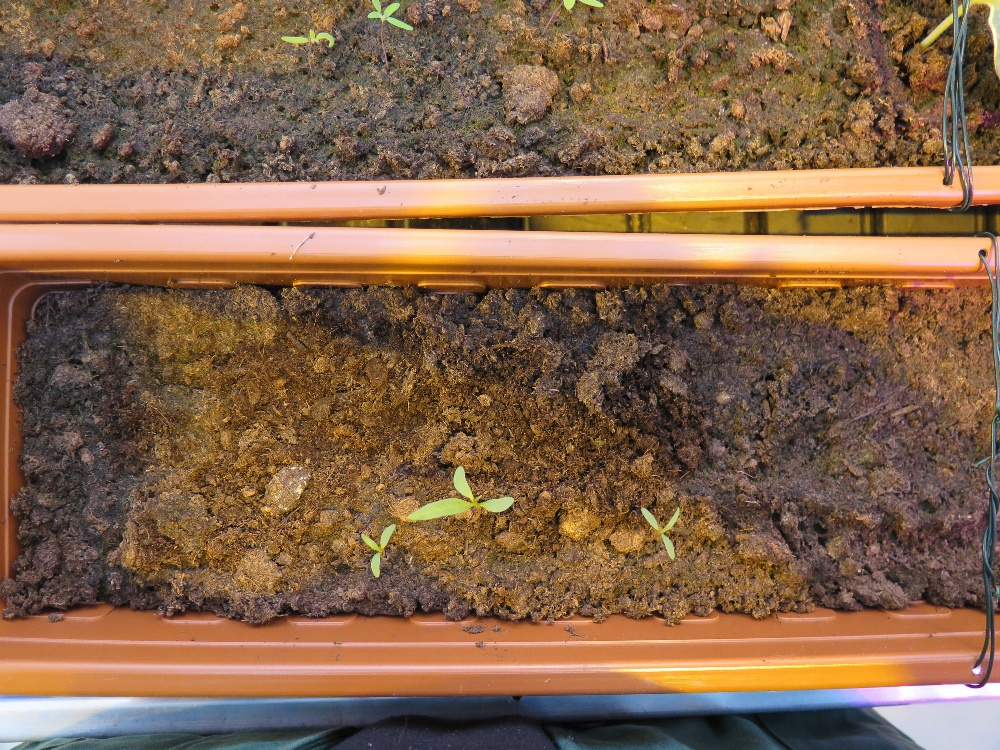weed: (393, 461, 530, 542), (350, 517, 416, 588), (352, 1, 443, 45), (627, 501, 687, 565), (287, 24, 334, 67), (539, 1, 630, 20)
